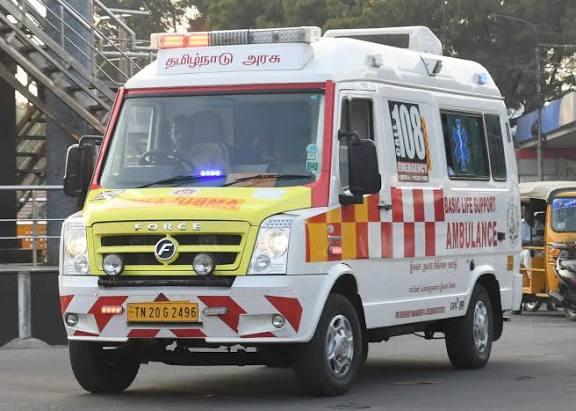ambulance: (57, 19, 516, 396)
